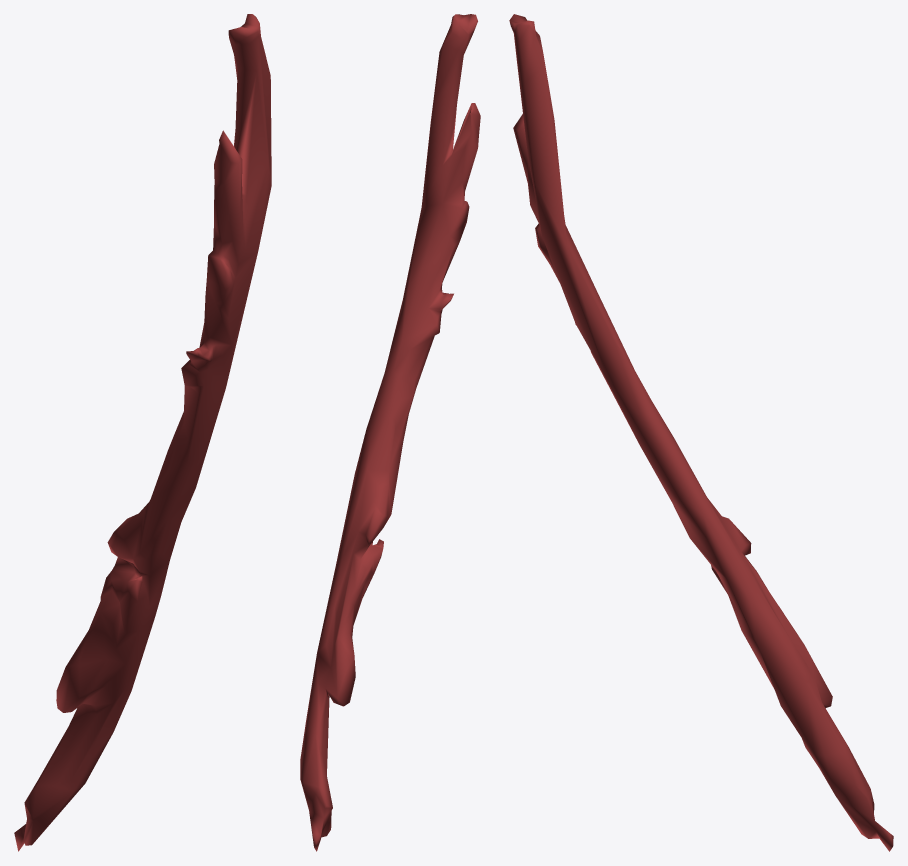
The model's file is spinalis-colli-muscle-l.glb.
The picture shows the model from 3 angles, left to right: view 1: azimuth 30°, elevation 25°; view 2: azimuth 150°, elevation 25°; view 3: azimuth 270°, elevation 25°; orthographic projection. The views are drawn at different scales.
Parts seen in each view (by area): view 1: Spinalis colli muscle.l; view 2: Spinalis colli muscle.l; view 3: Spinalis colli muscle.l.
Part boxes in pixels (<box>): Spinalis colli muscle.l: <box>14,14,271,851</box>; Spinalis colli muscle.l: <box>300,14,480,851</box>; Spinalis colli muscle.l: <box>509,14,893,851</box>.
Bounding box in the file's own units: 0.00791 × 0.1058 × 0.0438.
